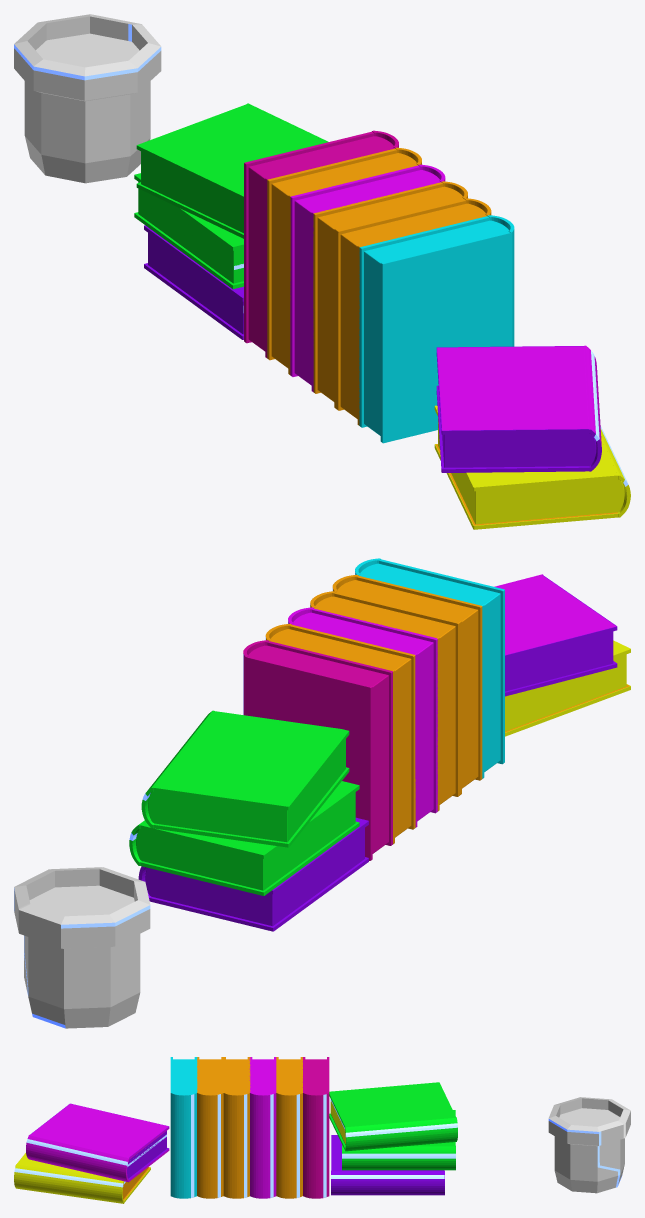
Rendered from livres_pot_tech.fbx.
3 views of the same model, one above another, from view 1: azimuth 30°, elevation 25°; view 2: azimuth 150°, elevation 25°; view 3: azimuth 270°, elevation 25° (orthographic). The views are drawn at different scales.
Visible parts, largest first — view 1: livre.002, livre.001, pot.tech, livre.010, livre, livre.006, livre.003, livre.007, livre.004, livre.005, livre.009, livre.008; view 2: livre.010, pot.tech, livre.007, livre.009, livre.001, livre.008, livre.002, livre.003, livre.006, livre.005, livre.004, livre; view 3: livre.001, livre.010, pot.tech, livre.002, livre.004, livre.005, livre.007, livre.003, livre.006, livre, livre.008, livre.009.
Boxes of the visible parts, box(x1,y1,x2,y2) form: livre.002: box(359, 215, 514, 443); livre.001: box(436, 345, 601, 472); pot.tech: box(14, 14, 161, 183); livre.010: box(136, 103, 328, 238); livre: box(434, 405, 630, 529); livre.006: box(267, 147, 421, 375); livre.003: box(336, 198, 491, 425); livre.007: box(244, 130, 398, 358); livre.004: box(313, 181, 467, 408); livre.005: box(290, 164, 445, 392); livre.009: box(134, 173, 243, 289); livre.008: box(144, 225, 243, 339); livre.010: box(141, 710, 349, 847); pot.tech: box(14, 867, 150, 1028); livre.007: box(243, 640, 392, 860); livre.009: box(129, 781, 359, 895); livre.001: box(494, 574, 617, 696); livre.008: box(138, 817, 368, 931); livre.002: box(355, 558, 504, 778); livre.003: box(332, 574, 482, 794); livre.006: box(265, 623, 415, 844); livre.005: box(288, 607, 437, 827); livre.004: box(310, 591, 459, 811); livre: box(505, 640, 630, 736); livre.001: box(26, 1103, 169, 1182); livre.010: box(329, 1082, 457, 1151); pot.tech: box(548, 1097, 630, 1193); livre.002: box(170, 1057, 197, 1198); livre.004: box(223, 1057, 250, 1198); livre.005: box(249, 1057, 276, 1198); livre.007: box(302, 1057, 329, 1198); livre.003: box(197, 1057, 223, 1198); livre.006: box(276, 1057, 302, 1198); livre: box(14, 1153, 150, 1203); livre.008: box(331, 1135, 444, 1195); livre.009: box(342, 1110, 455, 1170).
Bounding box in the file's own units: 37.01 × 31.3 × 169.
